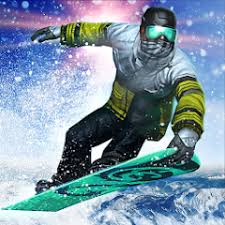snowboard: (2, 146, 202, 212)
